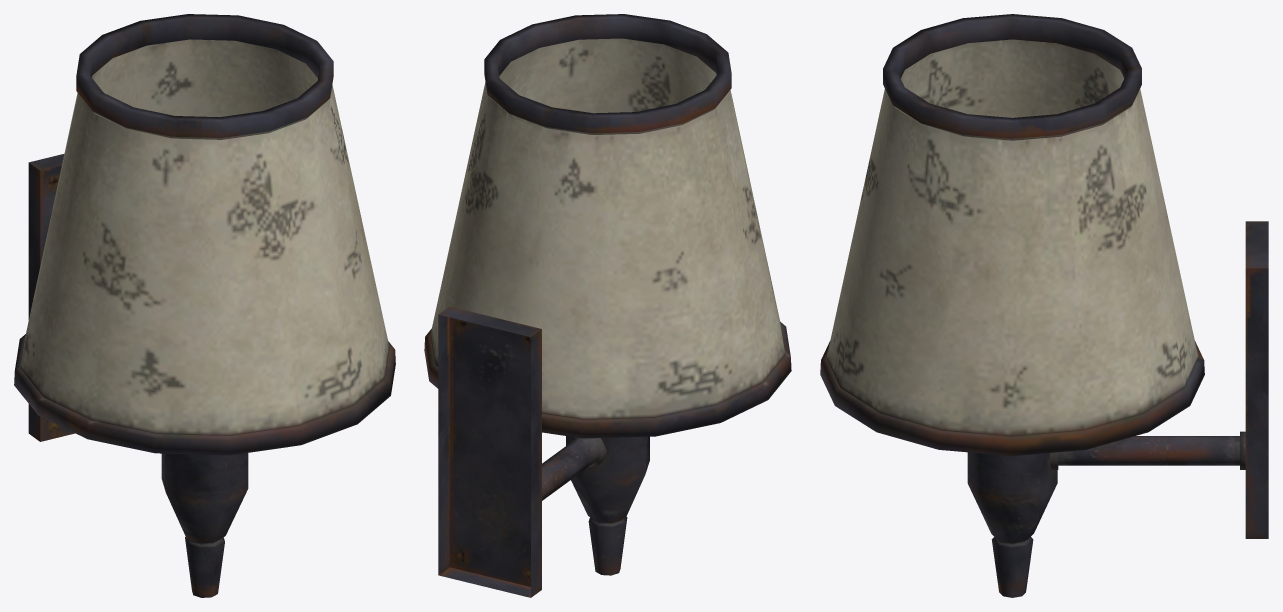
File: sm35_041_lightwall01a.fbx
3 views of the same model, side by side, from view 1: azimuth 30°, elevation 25°; view 2: azimuth 150°, elevation 25°; view 3: azimuth 270°, elevation 25° (orthographic). The views are drawn at different scales.
Parts seen in each view (by area): view 1: LOD_1_Group_0_Sub_1__sm35_041_LightWall01A_B_Mat, LOD_1_Group_0_Sub_2__sm35_041_LightWall01A_A_Mat; view 2: LOD_1_Group_0_Sub_1__sm35_041_LightWall01A_B_Mat, LOD_1_Group_0_Sub_2__sm35_041_LightWall01A_A_Mat; view 3: LOD_1_Group_0_Sub_1__sm35_041_LightWall01A_B_Mat, LOD_1_Group_0_Sub_2__sm35_041_LightWall01A_A_Mat.
Boxes of the visible parts, bbox=[...] form: LOD_1_Group_0_Sub_1__sm35_041_LightWall01A_B_Mat: bbox=[20, 39, 389, 435]; LOD_1_Group_0_Sub_2__sm35_041_LightWall01A_A_Mat: bbox=[14, 14, 395, 597]; LOD_1_Group_0_Sub_1__sm35_041_LightWall01A_B_Mat: bbox=[430, 38, 785, 419]; LOD_1_Group_0_Sub_2__sm35_041_LightWall01A_A_Mat: bbox=[424, 14, 791, 597]; LOD_1_Group_0_Sub_1__sm35_041_LightWall01A_B_Mat: bbox=[826, 39, 1198, 436]; LOD_1_Group_0_Sub_2__sm35_041_LightWall01A_A_Mat: bbox=[820, 14, 1268, 597].
Size of the model in its own units: 0.3663 by 0.5501 by 0.4271.
